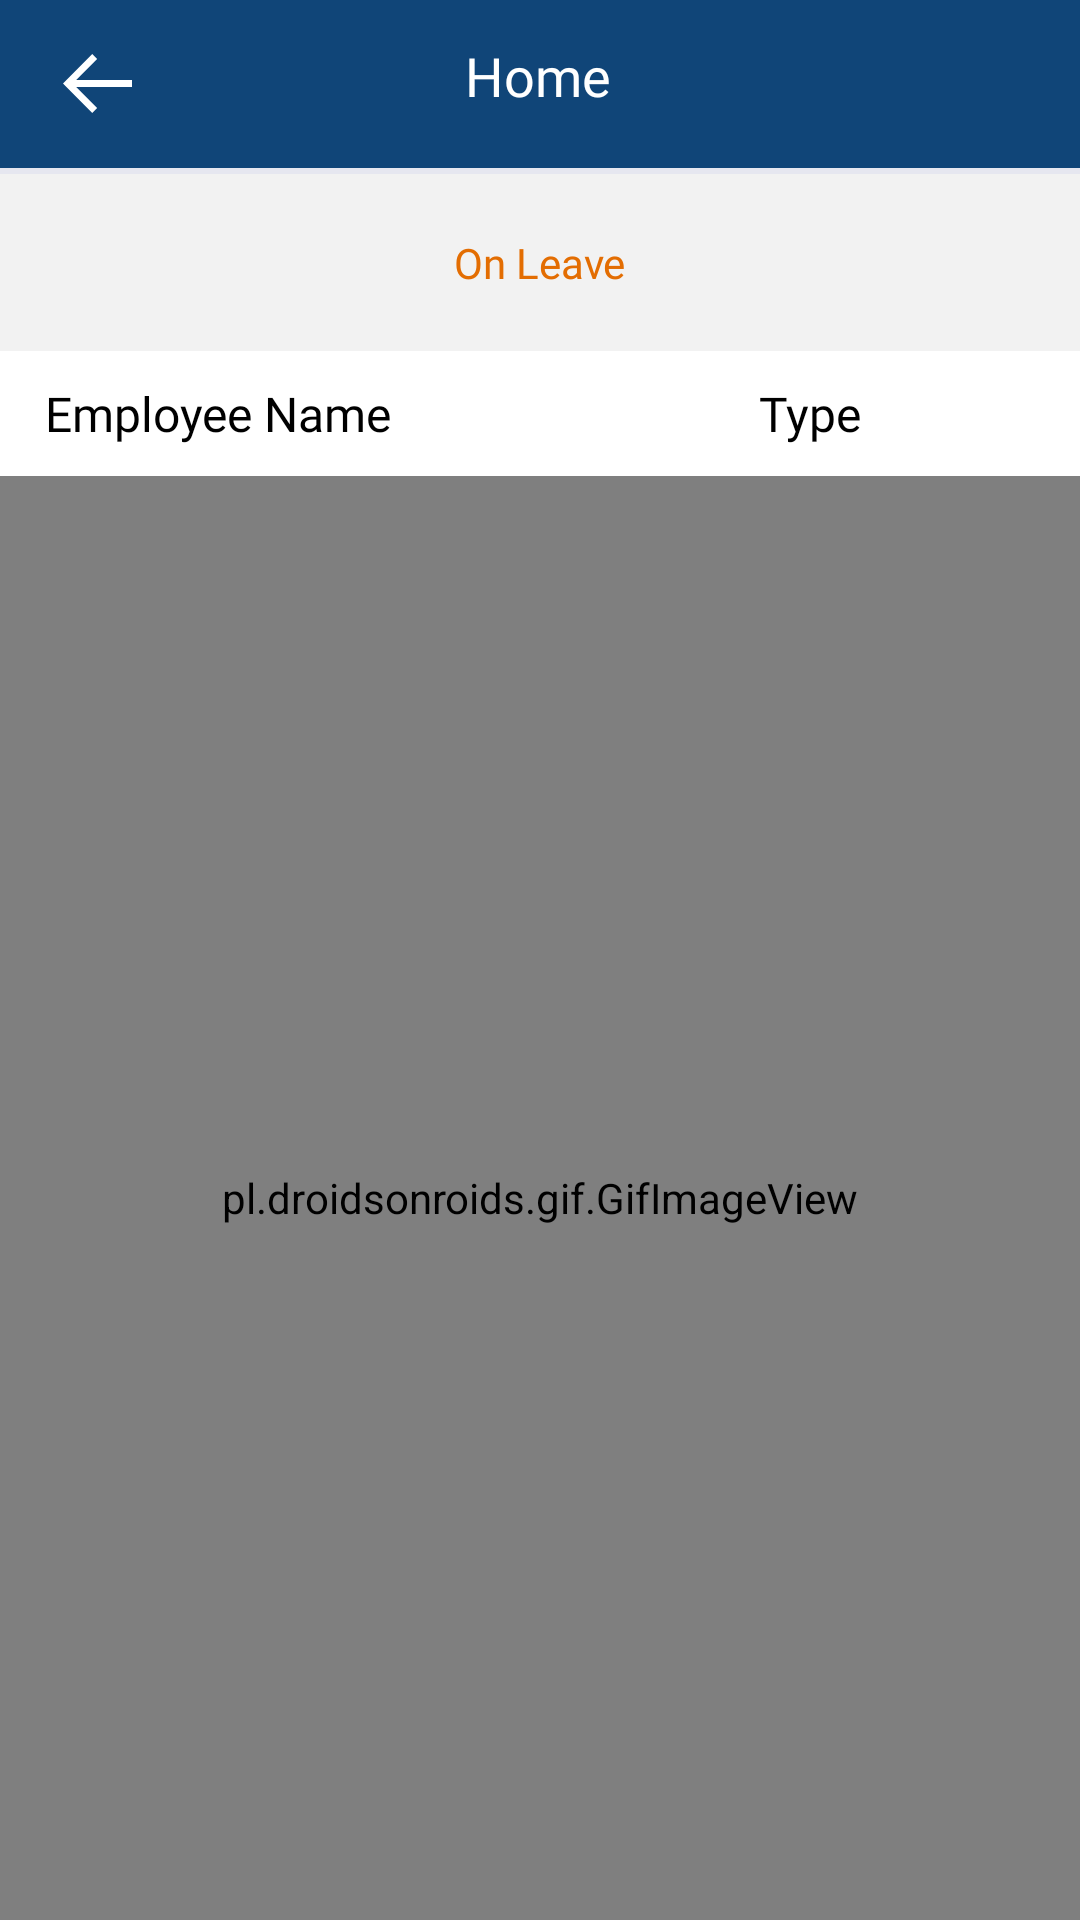

Icon click points for this 1080px×1920px phone screenshot, format [x,y]:
back arrow: [97,83]
